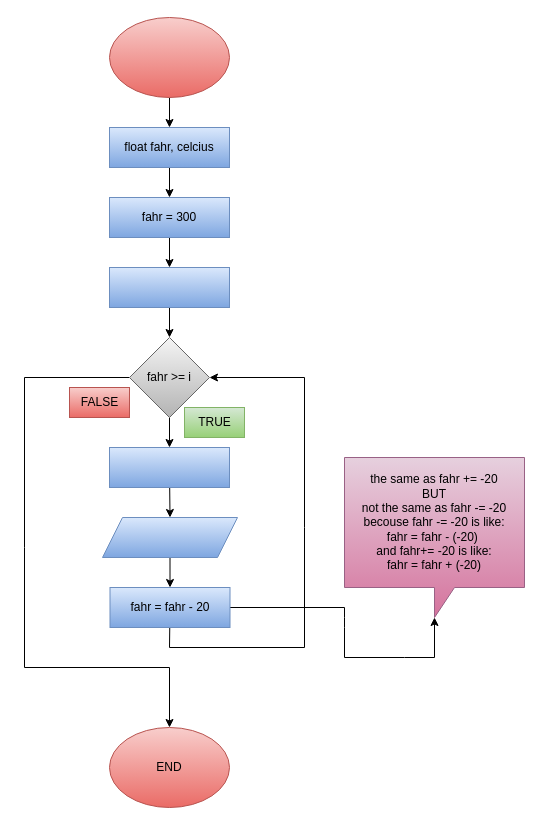
Image size: 542x825. Some labels were removed from this diagram. The centre of each missing label's shape, as x and y in pixels:
celcius = (5.0/9.0) * (fahr - 32.0): pixel 169 467
int i = 0: pixel 169 287
pint fahr and celcius: pixel 170 537
START: pixel 169 57
